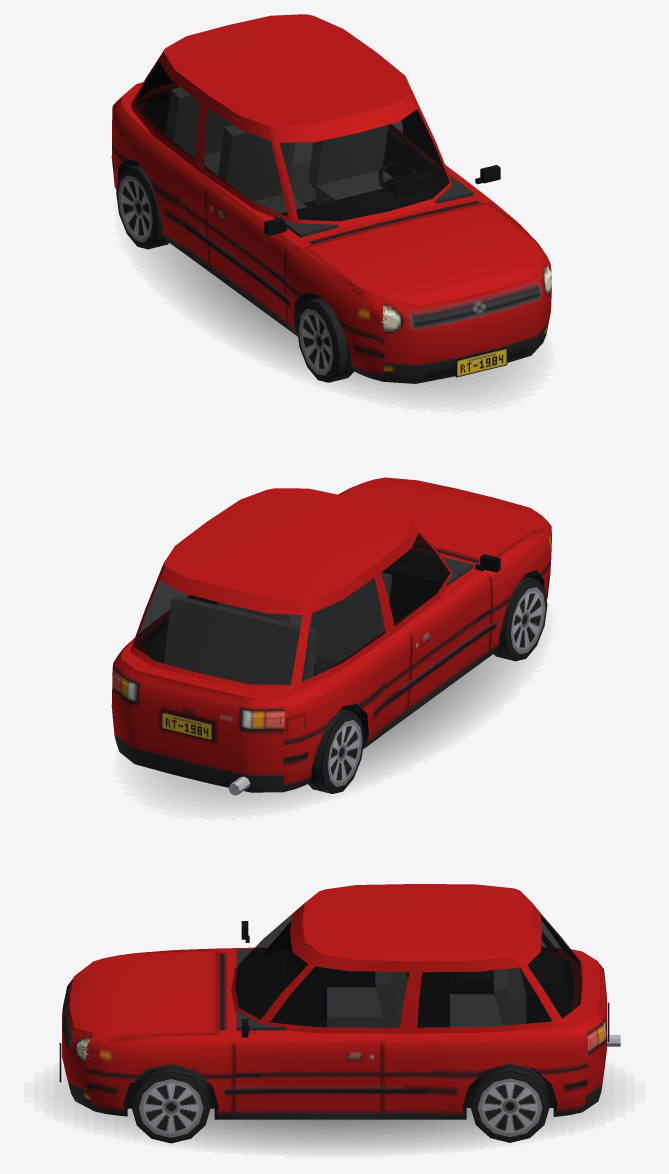
The model's file is rastilho.glb.
3 views of the same model, one above another, from view 1: azimuth 30°, elevation 25°; view 2: azimuth 150°, elevation 25°; view 3: azimuth 270°, elevation 25° (orthographic). The views are drawn at different scales.
Parts seen in each view (by area): view 1: Carroceria, Interior, Capo_malha, Porta_D_malha, Sombra, Roda_DD, Roda_TD, Porta_E_malha; view 2: Carroceria, Tampa_malha, Interior, Porta_D_malha, Capo_malha, Sombra, Roda_TD, Roda_DD; view 3: Carroceria, Interior, Porta_E_malha, Capo_malha, Sombra, Roda_DE, Roda_TE, Tampa_malha.
Part boxes in pixels (x1,y1,x2,y2): Carroceria: [111, 14, 551, 383]; Interior: [139, 87, 473, 237]; Capo_malha: [307, 203, 547, 305]; Porta_D_malha: [206, 106, 293, 322]; Sombra: [147, 243, 527, 399]; Roda_DD: [296, 297, 353, 382]; Roda_TD: [116, 164, 168, 249]; Porta_E_malha: [402, 82, 500, 184]; Carroceria: [111, 480, 551, 795]; Tampa_malha: [131, 566, 304, 770]; Interior: [139, 550, 473, 684]; Porta_D_malha: [393, 523, 500, 707]; Capo_malha: [341, 477, 547, 559]; Sombra: [141, 654, 521, 806]; Roda_TD: [308, 709, 364, 793]; Roda_DD: [494, 576, 547, 661]; Carroceria: [59, 884, 620, 1119]; Interior: [131, 931, 572, 1082]; Porta_E_malha: [234, 954, 381, 1112]; Capo_malha: [75, 951, 217, 1041]; Sombra: [64, 1079, 604, 1149]; Roda_DE: [131, 1064, 210, 1143]; Roda_TE: [470, 1063, 549, 1142]; Tampa_malha: [520, 903, 609, 1058].
Bounding box in the file's own units: 2.34 × 1.42 × 4.69.
Materials: 12 (6 with a texture image).
